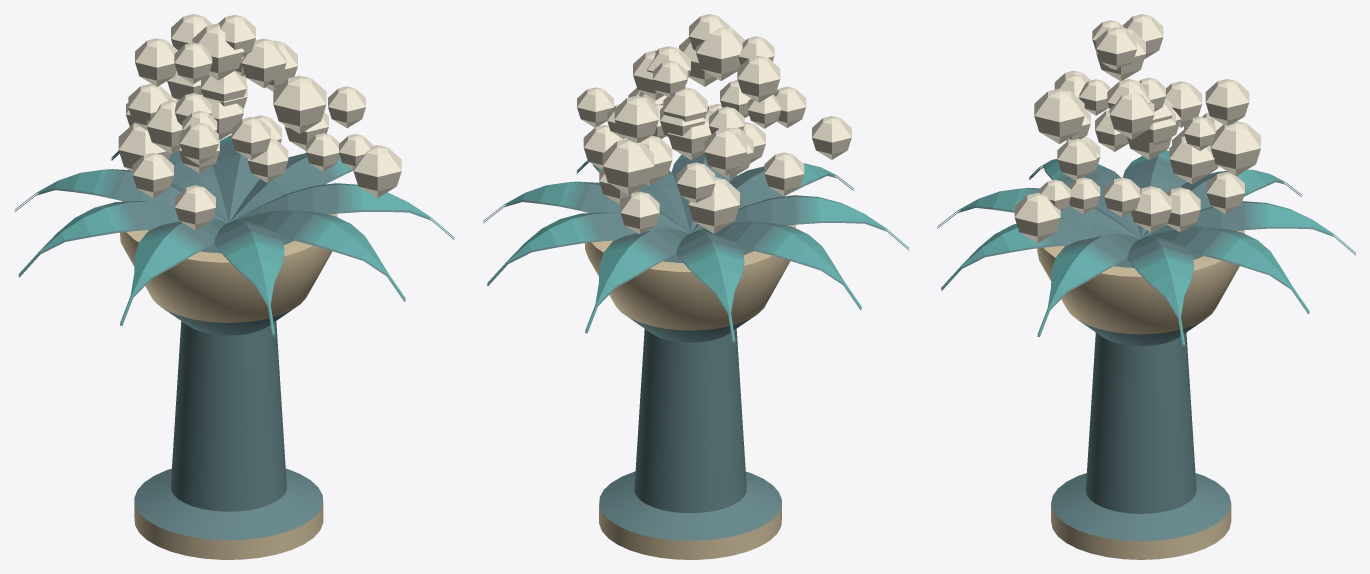
The model's file is KC32__AD_Int_Planter_Flowers.glb.
The picture shows the model from 3 angles, left to right: view 1: azimuth 30°, elevation 25°; view 2: azimuth 150°, elevation 25°; view 3: azimuth 270°, elevation 25°; orthographic projection. The views are drawn at different scales.
Visible parts, largest first — view 1: KC32_CORPS__AD_Int_Planter_Flowers, KC32_LUMIERE__AD_Int_Planter_Flowers, KC32_BRONZE__AD_Int_Planter_Flowers; view 2: KC32_CORPS__AD_Int_Planter_Flowers, KC32_LUMIERE__AD_Int_Planter_Flowers, KC32_BRONZE__AD_Int_Planter_Flowers; view 3: KC32_CORPS__AD_Int_Planter_Flowers, KC32_LUMIERE__AD_Int_Planter_Flowers, KC32_BRONZE__AD_Int_Planter_Flowers.
Part boxes in pixels (x1,y1,x2,y2): KC32_CORPS__AD_Int_Planter_Flowers: (14,135,454,540); KC32_LUMIERE__AD_Int_Planter_Flowers: (118,14,401,230); KC32_BRONZE__AD_Int_Planter_Flowers: (120,213,337,559); KC32_CORPS__AD_Int_Planter_Flowers: (483,153,908,540); KC32_LUMIERE__AD_Int_Planter_Flowers: (577,14,851,233); KC32_BRONZE__AD_Int_Planter_Flowers: (585,224,795,559); KC32_CORPS__AD_Int_Planter_Flowers: (937,150,1355,540); KC32_LUMIERE__AD_Int_Planter_Flowers: (1014,14,1260,243); KC32_BRONZE__AD_Int_Planter_Flowers: (1037,230,1244,559).
Size of the model in its own units: 1.22 by 1.56 by 1.21.
